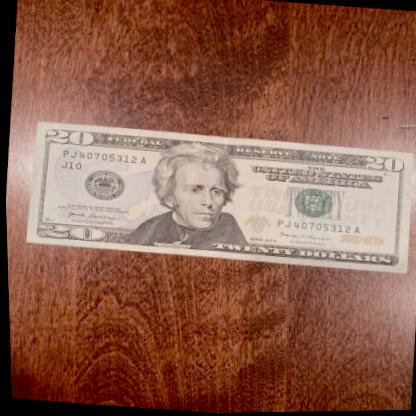twenty-front: (21, 117, 416, 280)
